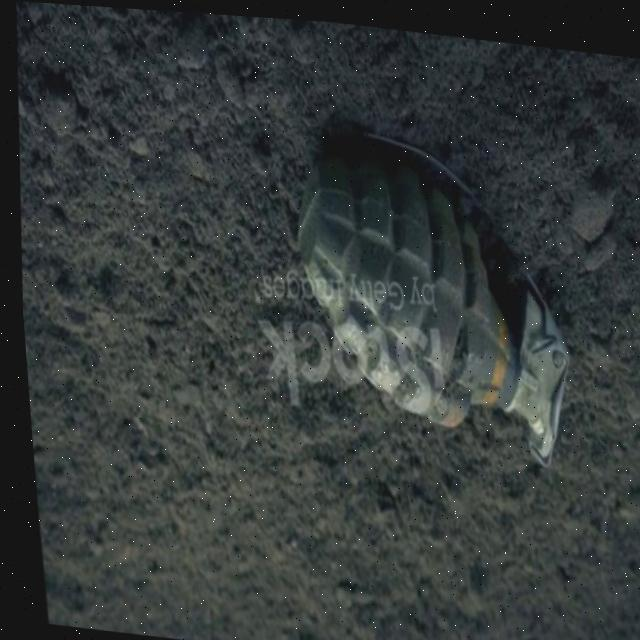grenade: (265, 101, 594, 476)
